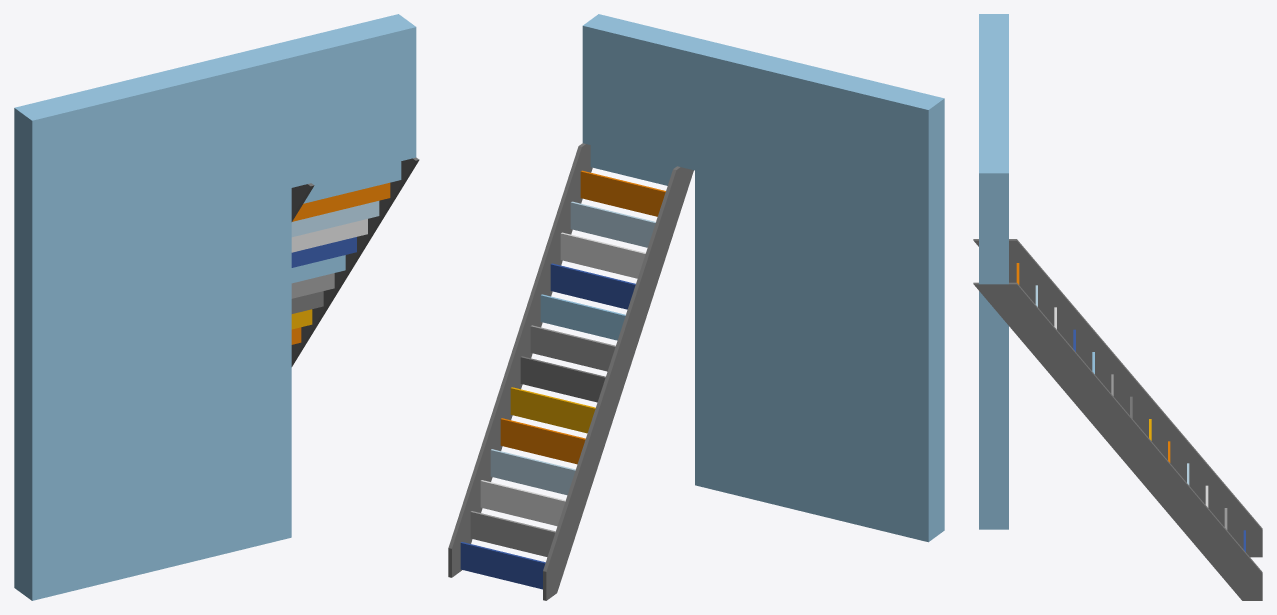
The model's file is workPlatform.obj.
3 views of the same model, side by side, from view 1: azimuth 30°, elevation 25°; view 2: azimuth 150°, elevation 25°; view 3: azimuth 270°, elevation 25° (orthographic). The views are drawn at different scales.
Visible parts, largest first — view 1: mesh3, mesh6, mesh5, mesh83, mesh54, mesh45, mesh21, mesh27, mesh64, mesh100, mesh57, mesh76; view 2: mesh4, mesh16, mesh6, mesh5, mesh54, mesh60, mesh47, mesh102, mesh23, mesh29, mesh66, mesh78 (+9 smaller); view 3: mesh53, mesh17, mesh0, mesh5, mesh2, mesh18, mesh55.
Boxes of the visible parts, x1=… form: mesh3: x1=32, y1=27, x2=416, y2=600; mesh6: x1=14, y1=108, x2=32, y2=600; mesh5: x1=14, y1=14, x2=415, y2=120; mesh83: x1=303, y1=161, x2=401, y2=203; mesh54: x1=291, y1=158, x2=415, y2=361; mesh45: x1=292, y1=182, x2=390, y2=221; mesh21: x1=291, y1=201, x2=379, y2=237; mesh27: x1=291, y1=219, x2=367, y2=252; mesh64: x1=291, y1=237, x2=356, y2=267; mesh100: x1=291, y1=255, x2=345, y2=283; mesh57: x1=291, y1=160, x2=419, y2=366; mesh76: x1=291, y1=273, x2=334, y2=298; mesh4: x1=582, y1=26, x2=928, y2=542; mesh16: x1=546, y1=167, x2=693, y2=600; mesh6: x1=928, y1=98, x2=944, y2=541; mesh5: x1=583, y1=14, x2=943, y2=109; mesh54: x1=452, y1=144, x2=592, y2=577; mesh60: x1=460, y1=543, x2=545, y2=589; mesh47: x1=580, y1=171, x2=665, y2=216; mesh102: x1=540, y1=295, x2=625, y2=340; mesh23: x1=570, y1=202, x2=655, y2=247; mesh29: x1=560, y1=233, x2=645, y2=278; mesh66: x1=550, y1=264, x2=635, y2=309; mesh78: x1=530, y1=326, x2=615, y2=371; mesh53: x1=974, y1=284, x2=1262, y2=600; mesh17: x1=974, y1=240, x2=1262, y2=557; mesh0: x1=979, y1=291, x2=1008, y2=529; mesh5: x1=979, y1=14, x2=1008, y2=173; mesh2: x1=979, y1=173, x2=1008, y2=284; mesh18: x1=1017, y1=239, x2=1262, y2=529; mesh55: x1=1017, y1=283, x2=1262, y2=573.
Bounding box in the file's own units: 3.8 × 4.75 × 2.91.
